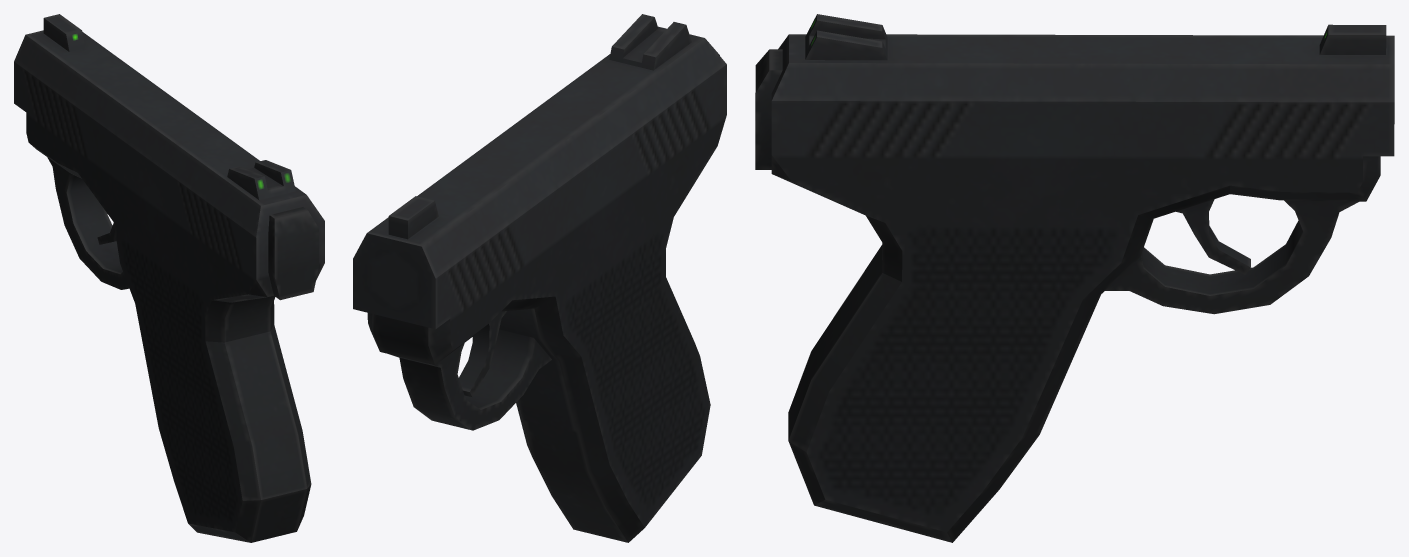
The model's file is Handgun.fbx.
3 renders of one model, left to right at view 1: azimuth 30°, elevation 25°; view 2: azimuth 150°, elevation 25°; view 3: azimuth 270°, elevation 25°, orthographic. The views are drawn at different scales.
Parts seen in each view (by area): view 1: Handgun; view 2: Handgun; view 3: Handgun.
Boxes of the visible parts, box(x1,y1,x2,y2) form: Handgun: box(14, 14, 324, 542); Handgun: box(353, 14, 726, 542); Handgun: box(755, 14, 1394, 542).
Bounding box in the file's own units: 60 × 326 × 376.
Materials: 1 (1 with a texture image).
